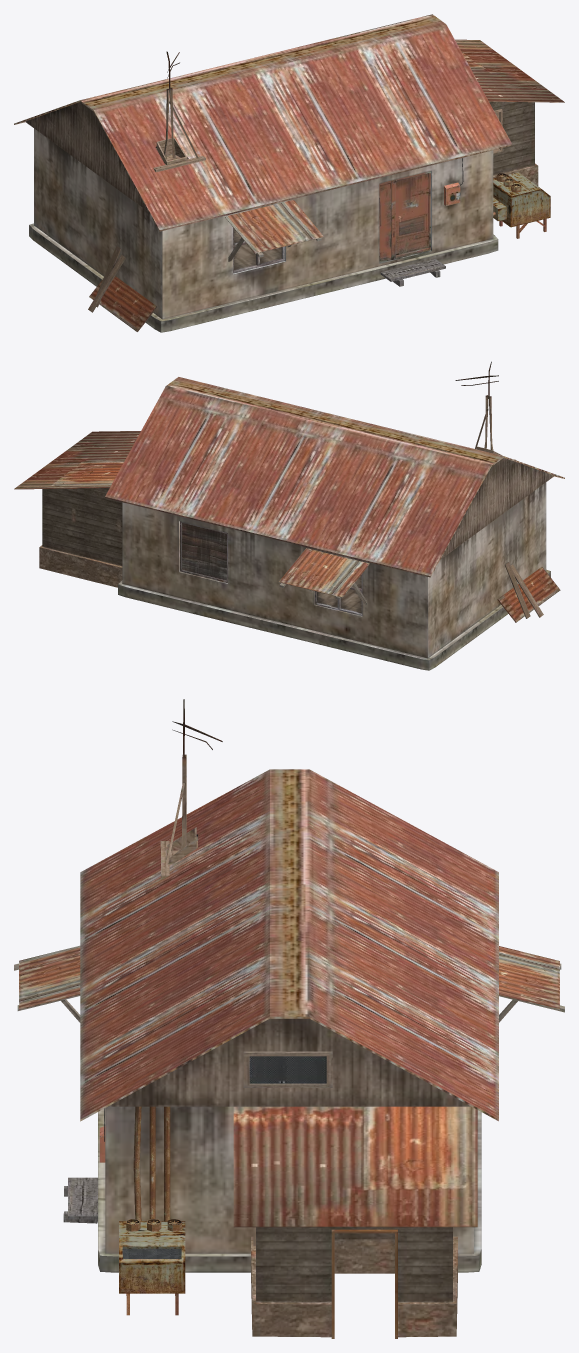
The picture shows the model from 3 angles, top to bottom: view 1: azimuth 30°, elevation 25°; view 2: azimuth 150°, elevation 25°; view 3: azimuth 270°, elevation 25°; orthographic projection. The views are drawn at different scales.
Parts seen in each view (by area): view 1: Cube.001_Roof_0, Cube_Wall_0, Cube.002_Equipment_0, Cube.024_Laggue_0, Cylinder.001_Generator_0, Cube.010_cell_Glass_0; view 2: Cube.001_Roof_0, Cube_Wall_0, Cube.024_Laggue_0, Cube.002_Equipment_0, Cube.010_cell_Glass_0; view 3: Cube.001_Roof_0, Cube.024_Laggue_0, Cube_Wall_0, Cube.002_Equipment_0, Cylinder.001_Generator_0.
Boxes of the visible parts, <box> form: Cube.001_Roof_0: <box>14,14,512,231</box>; Cube_Wall_0: <box>29,128,498,332</box>; Cube.002_Equipment_0: <box>88,51,463,331</box>; Cube.024_Laggue_0: <box>455,39,564,185</box>; Cylinder.001_Generator_0: <box>493,172,550,238</box>; Cube.010_cell_Glass_0: <box>234,229,282,270</box>; Cube.001_Roof_0: <box>105,377,564,577</box>; Cube_Wall_0: <box>118,482,550,670</box>; Cube.024_Laggue_0: <box>14,431,140,587</box>; Cube.002_Equipment_0: <box>180,361,560,622</box>; Cube.010_cell_Glass_0: <box>317,575,361,613</box>; Cube.001_Roof_0: <box>80,769,498,1121</box>; Cube.024_Laggue_0: <box>233,1106,477,1338</box>; Cube_Wall_0: <box>98,1106,481,1272</box>; Cube.002_Equipment_0: <box>14,699,564,1223</box>; Cylinder.001_Generator_0: <box>119,1106,185,1315</box>.
Size of the model in its own units: 14.43 by 7.26 by 9.96.
7 materials, 6 textured.
